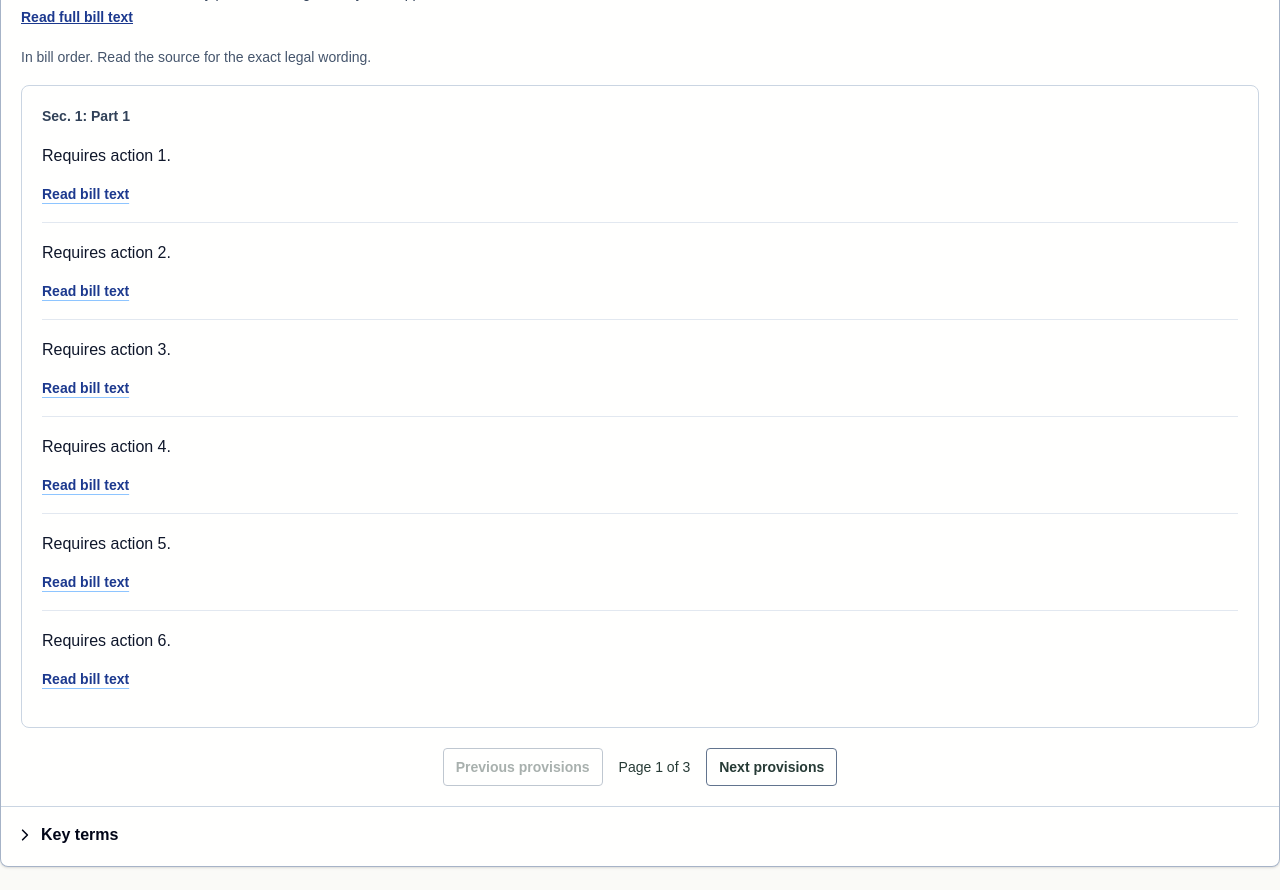
Scenario: BillBrief › paginates source-ordered reader items and keeps earlier pages when a later page fails
(page scrolled)
Expected: the text "Requires action 6." is shown, [42,632,171,648]
Expected: the text "Requires action 7." is not shown
Click the button "Next provisions".
click(772, 766)  # box [706,748,837,786]
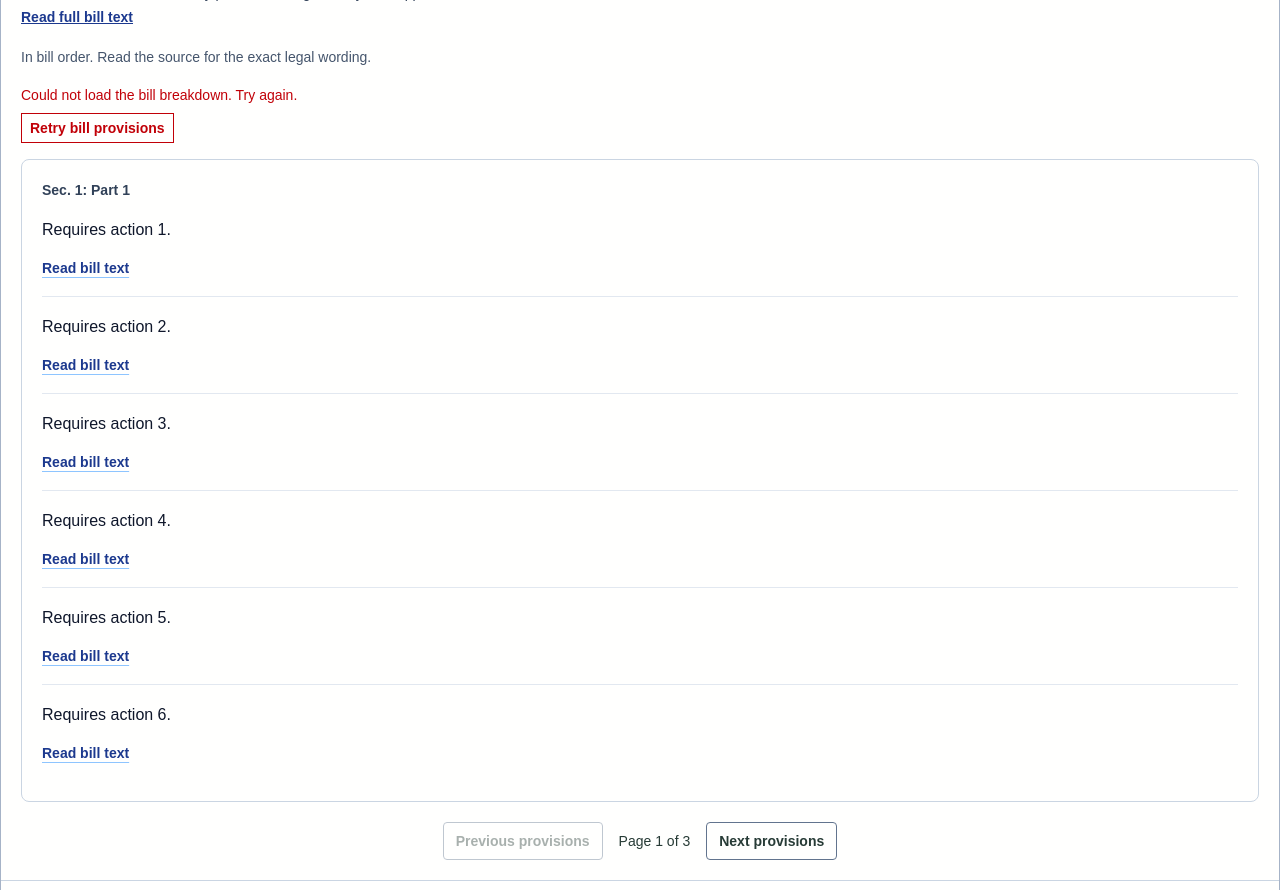
Expected: the text "Requires action 1." is shown, [42,220,171,238]
Expected: the message "Could not load the bill breakdown. Try again. Retry bill provisions" is shown, [21,86,297,142]
Click the button "Retry bill provisions".
click(97, 128)  # box [21,112,174,142]
(page scrolled)
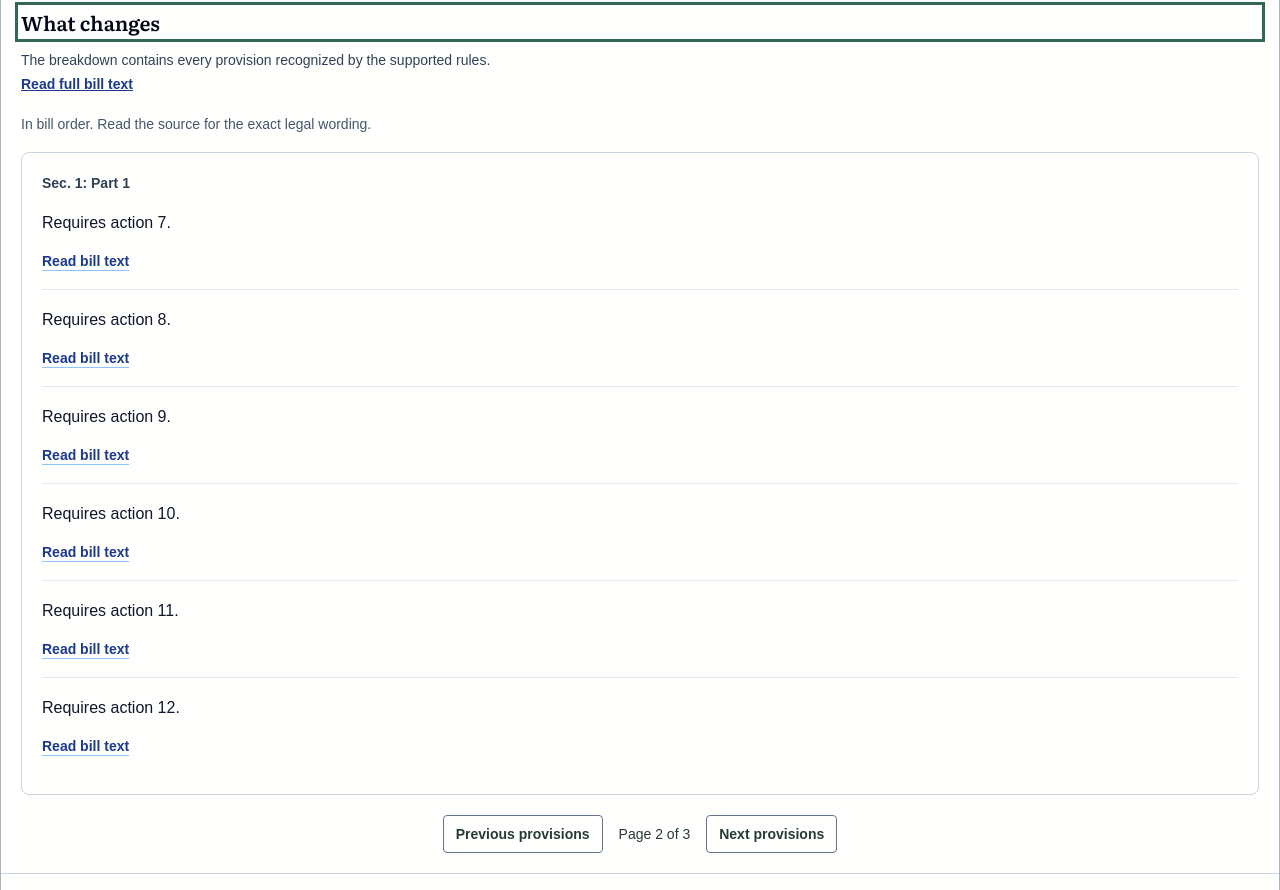
Expected: the text "Requires action 1." is not shown
Expected: the text "Requires action 12." is shown, [42,698,180,716]
Click the button "Next provisions".
click(772, 834)  # box [706,814,837,852]
(page scrolled)
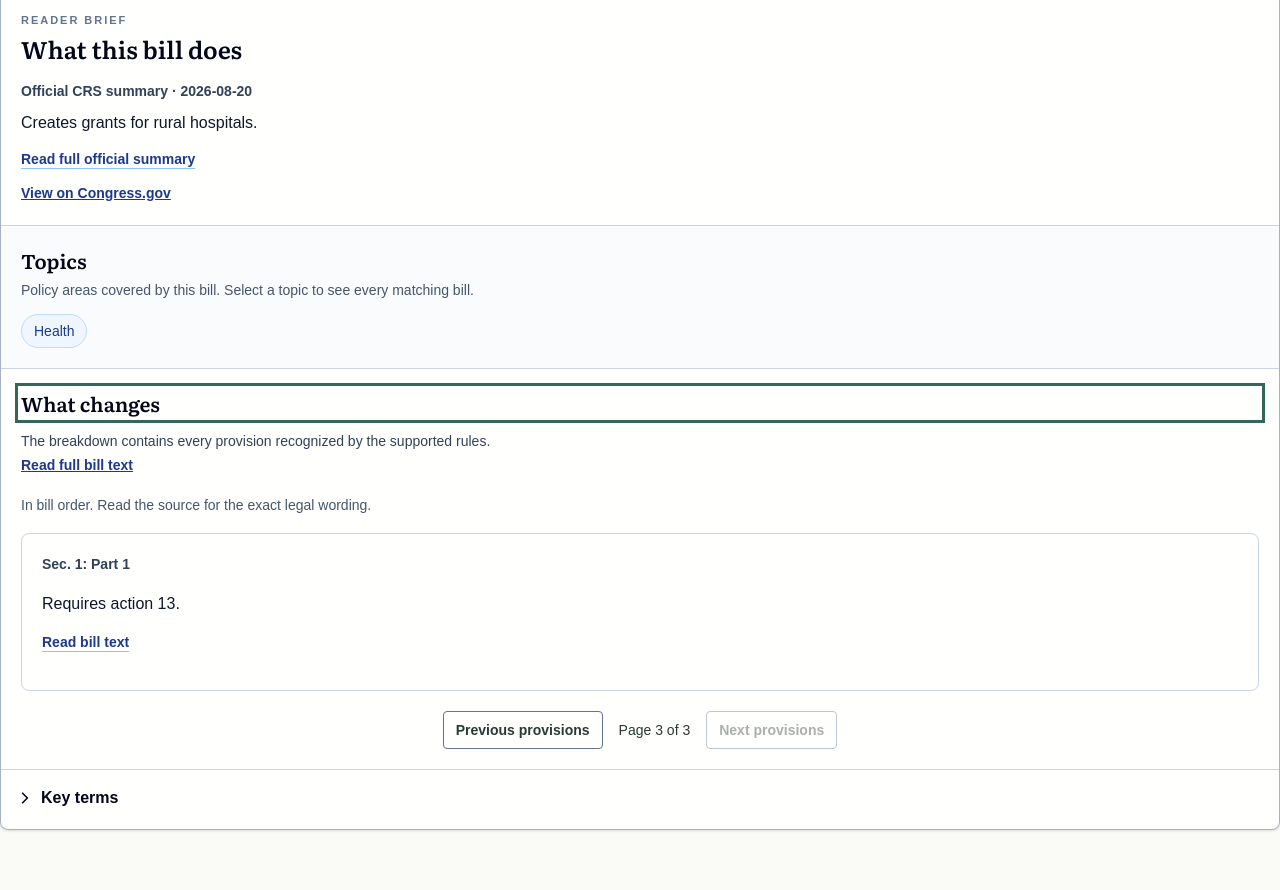
Expected: the text "Requires action 13." is shown, [42,594,180,612]
Expected: the button "Next provisions" is disabled, [706,710,837,748]
